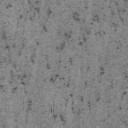oxide scale of temperature system: (0, 0, 128, 128), (19, 0, 53, 32), (26, 98, 32, 114), (5, 3, 12, 9), (116, 46, 120, 50)
